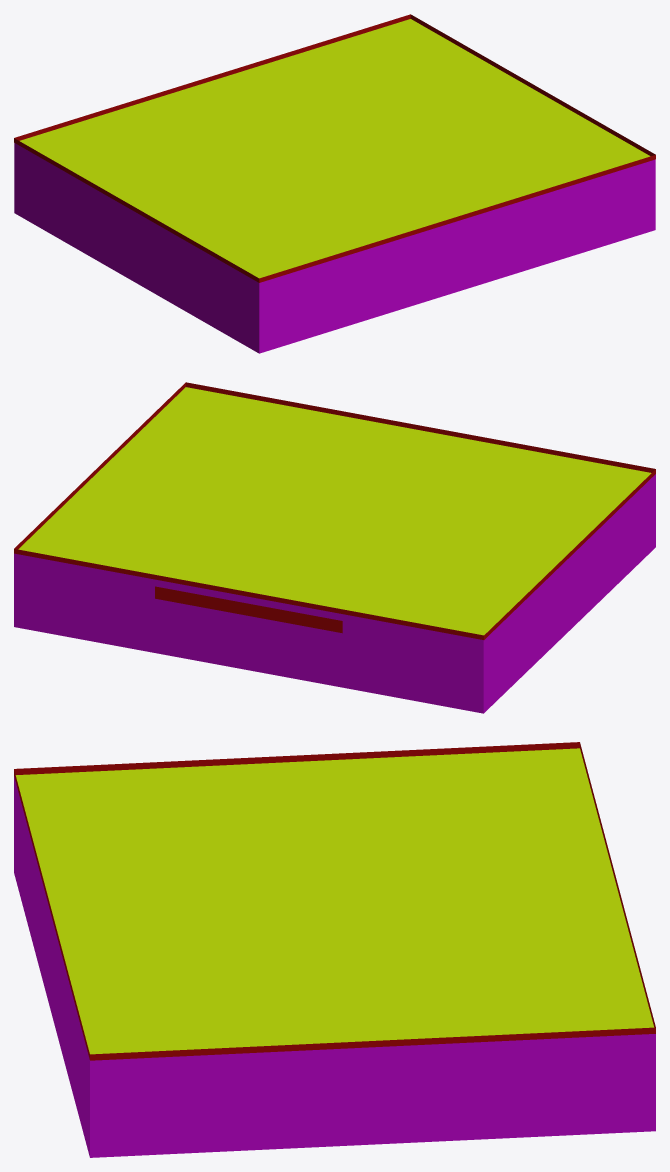
The model's file is bgj_431.glb.
3 renders of one model, top to bottom at view 1: azimuth 30°, elevation 25°; view 2: azimuth 150°, elevation 25°; view 3: azimuth 270°, elevation 25°, orthographic. The views are drawn at different scales.
Parts seen in each view (by area): view 1: bgj_431; view 2: bgj_431; view 3: bgj_431.
Part boxes in pixels (x1,y1,x2,y2): bgj_431: (14, 14, 655, 353); bgj_431: (14, 382, 655, 713); bgj_431: (14, 742, 655, 1157).
Bounding box in the file's own units: 37.12 × 5.75 × 32.24.
